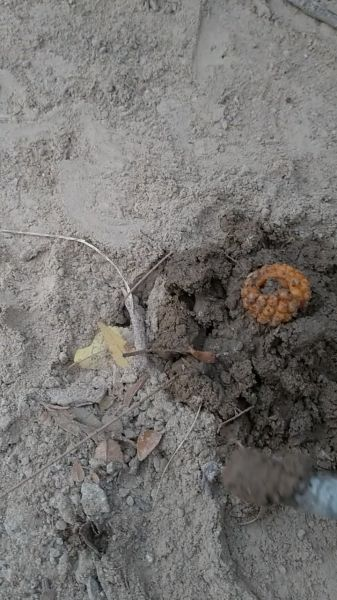eggs: (234, 260, 316, 329)
